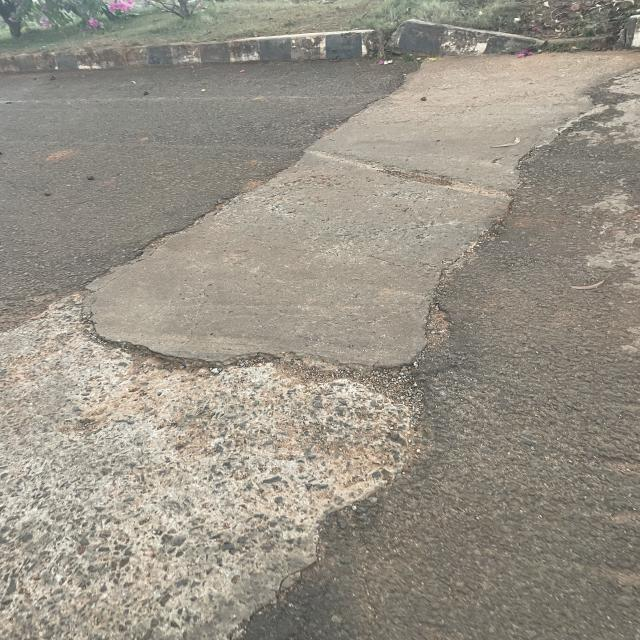D01: (332, 51, 640, 213)
D40: (9, 286, 456, 640)
